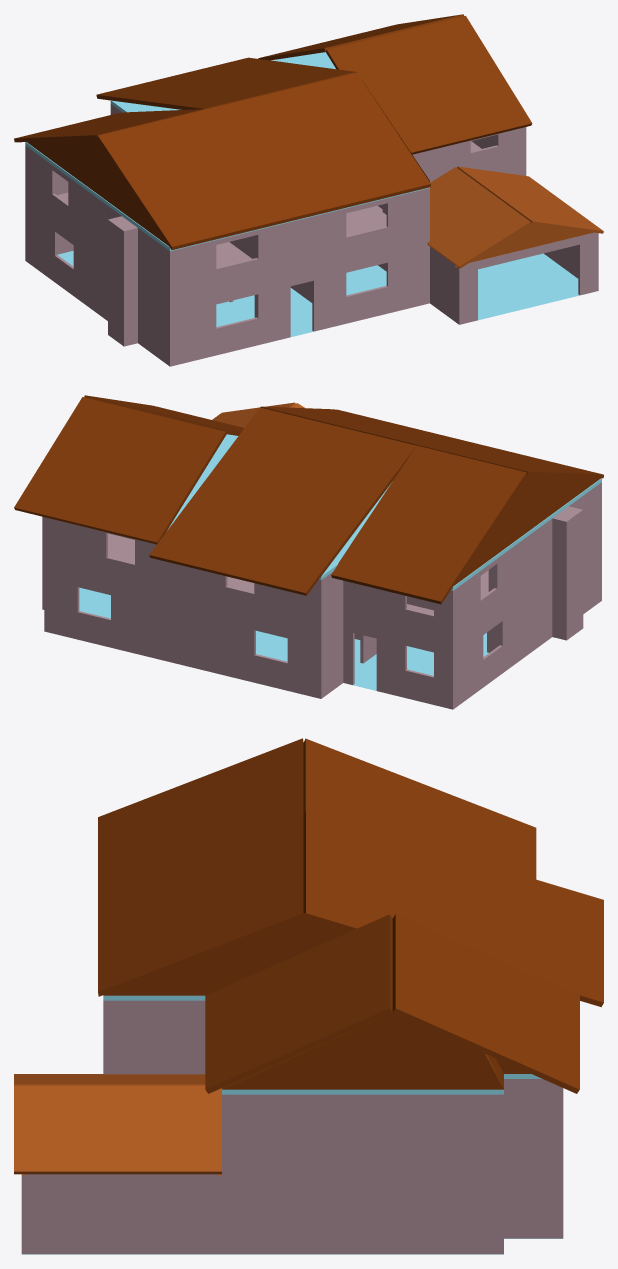
File: Casa simpson.obj
3 views of the same model, one above another, from view 1: azimuth 30°, elevation 25°; view 2: azimuth 150°, elevation 25°; view 3: azimuth 270°, elevation 25° (orthographic). The views are drawn at different scales.
Visible parts, largest first — view 1: Tejado, Paredes_alta, Paredes_baja, Piso_baja, Techo_baja, Techo_alta; view 2: Tejado, Paredes_baja, Paredes_alta, Techo_baja, Piso_baja, Techo_alta; view 3: Tejado, Paredes_baja, Paredes_alta, Techo_alta, Techo_baja.
Boxes of the visible parts, box(x1,y1,x2,y2) form: Tejado: box(14, 14, 603, 268); Paredes_alta: box(25, 104, 526, 307); Paredes_baja: box(25, 205, 598, 366); Piso_baja: box(58, 251, 579, 336); Techo_baja: box(25, 141, 598, 310); Techo_alta: box(25, 52, 429, 251); Tejado: box(14, 395, 603, 604); Paredes_baja: box(42, 543, 601, 709); Paredes_alta: box(42, 482, 601, 648); Techo_baja: box(42, 533, 601, 651); Piso_baja: box(79, 587, 488, 690); Techo_alta: box(167, 434, 601, 590); Tejado: box(14, 738, 603, 1175); Paredes_baja: box(21, 1161, 563, 1254); Paredes_alta: box(103, 1000, 563, 1171); Techo_alta: box(103, 995, 541, 1094); Techo_baja: box(21, 1156, 563, 1176).
Size of the model in its own units: 73.2 by 30.03 by 65.
